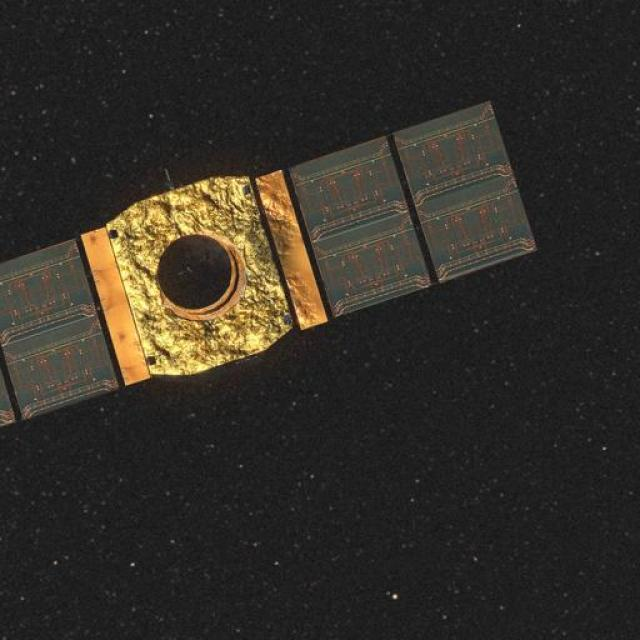soho: (2, 102, 490, 388)
